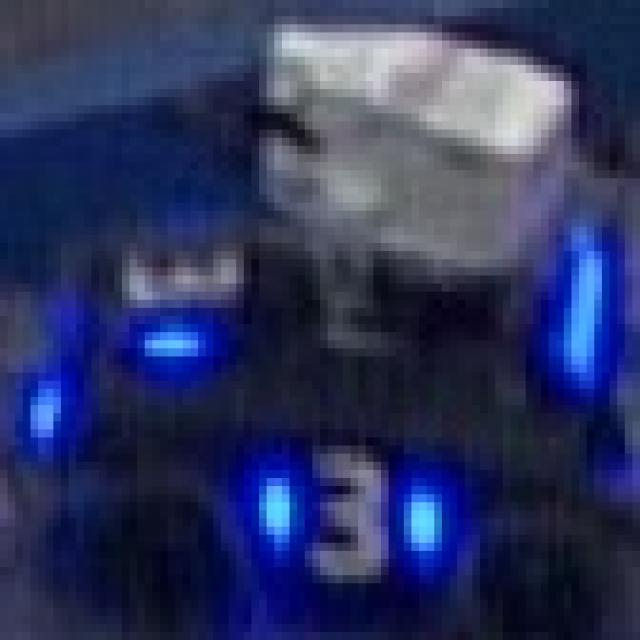B3: (252, 438, 434, 584)
